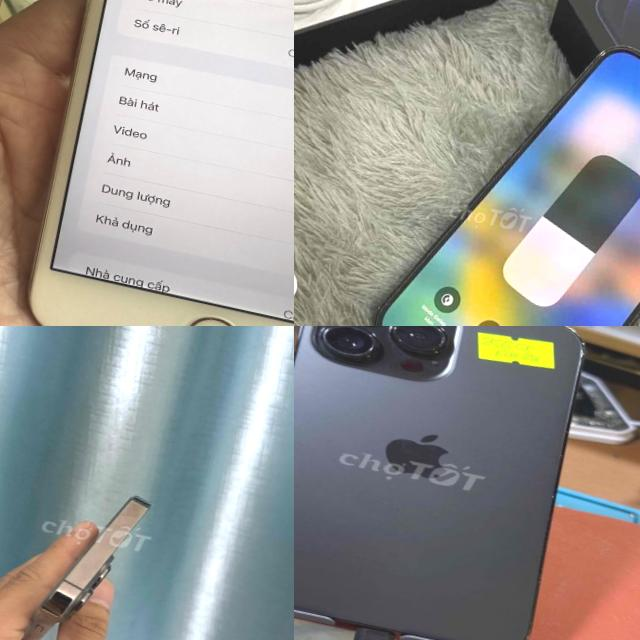gen_12_13: (350, 4, 640, 326), (20, 469, 167, 640)
gen_14: (294, 326, 615, 640)
gen_6: (6, 0, 294, 326)
